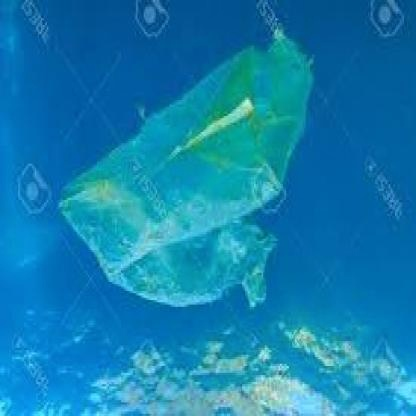pbag: (58, 29, 314, 312)
